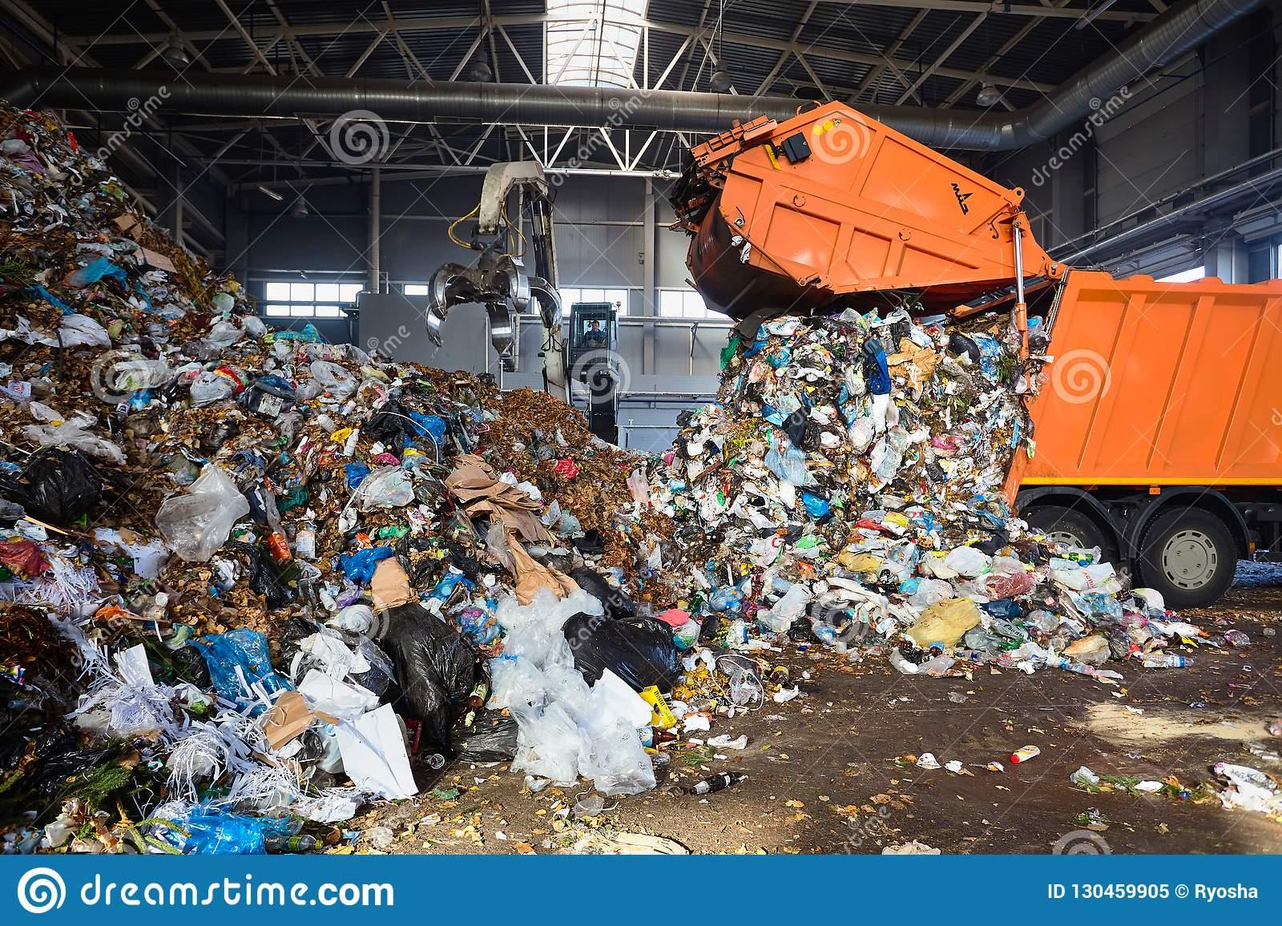garbage: (0, 184, 625, 893), (682, 305, 1110, 695)
